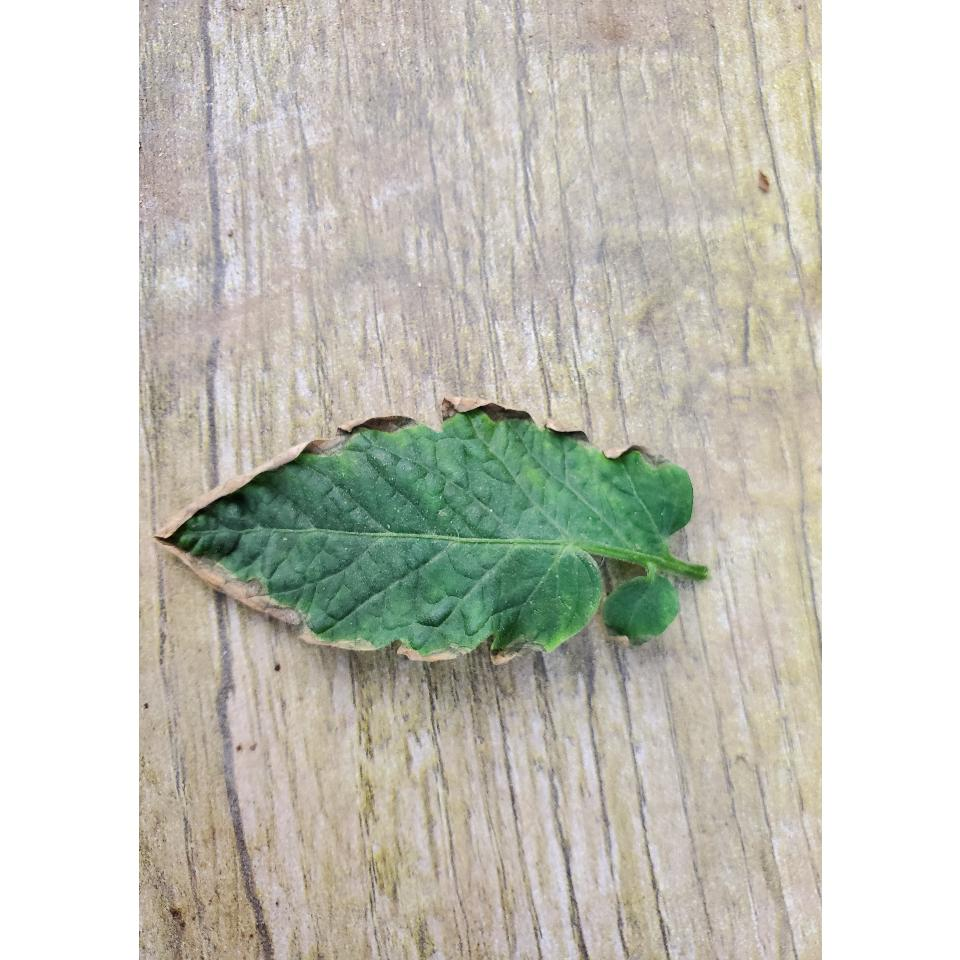tomato_bacterial_blight: (144, 393, 728, 671)
